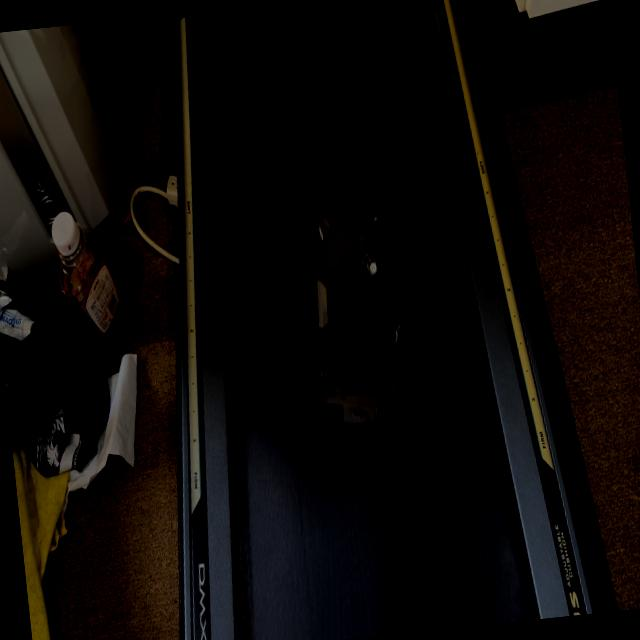Trash: (298, 183, 444, 425)
